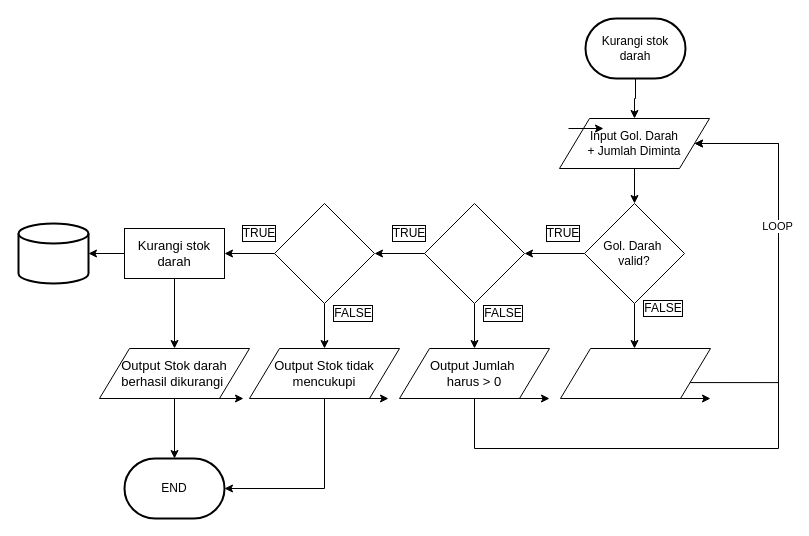
Some shapes in this 809 by 536 pixel diagram are drawn without their labels. The centre of each missing label's shape, as x and y in pixels:
"Jumlah > 0?" goes at point 474,253.
"Output Golongan darah tidak valid" goes at point 635,373.
"Stok cukup?" goes at point 324,253.
"StokDarah" goes at point 53,253.
